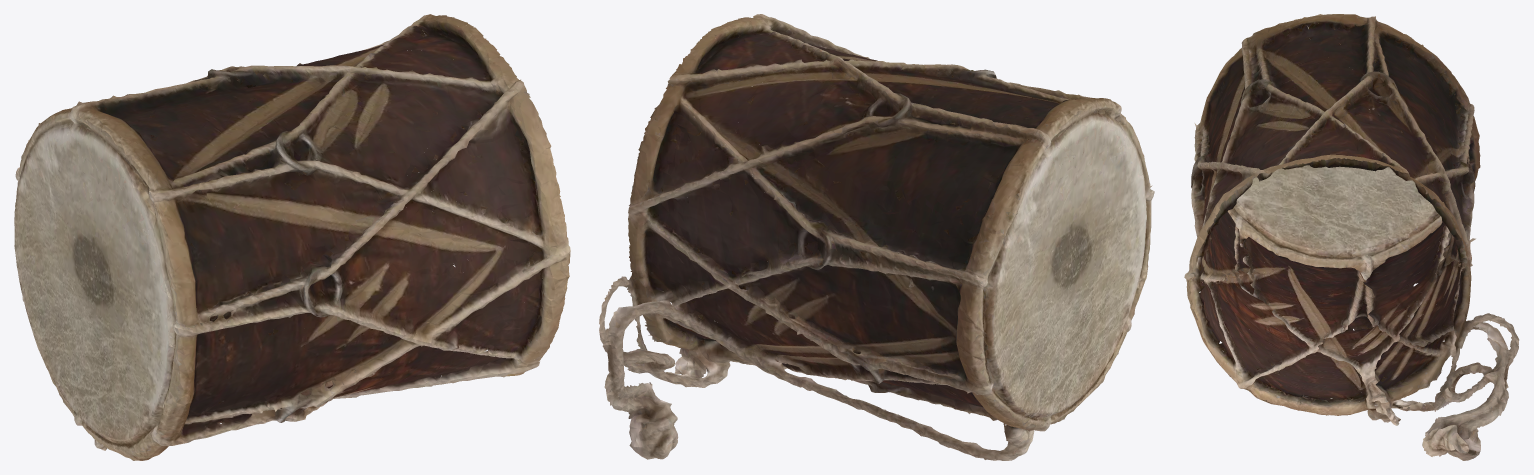
File: talking-drum.glb
3 views of the same model, side by side, from view 1: azimuth 30°, elevation 25°; view 2: azimuth 150°, elevation 25°; view 3: azimuth 270°, elevation 25° (orthographic). The views are drawn at different scales.
Parts seen in each view (by area): view 1: Stereo textured mesh; view 2: Stereo textured mesh; view 3: Stereo textured mesh.
Part boxes in pixels (box(x1,y1,x2,y2)): Stereo textured mesh: box(14, 14, 570, 460); Stereo textured mesh: box(599, 14, 1154, 460); Stereo textured mesh: box(1184, 14, 1519, 460).
Bounding box in the file's own units: 0.6 × 0.5781 × 0.5656.
Materials: 1 (1 with a texture image).
